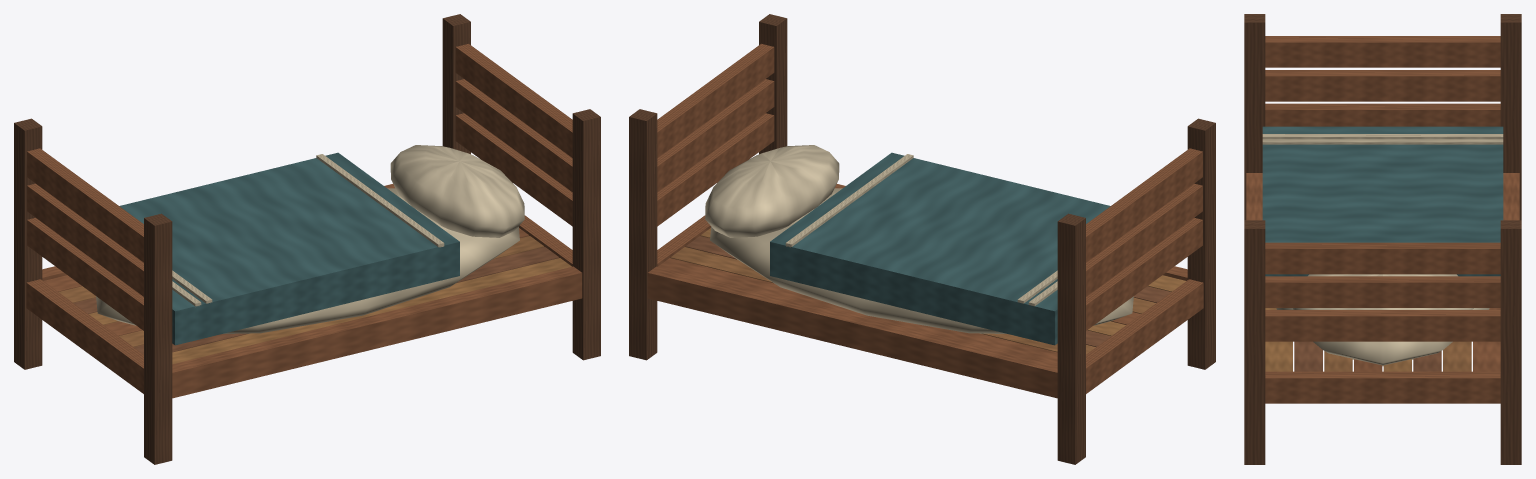
File: bed.glb
The picture shows the model from 3 angles, left to right: view 1: azimuth 30°, elevation 25°; view 2: azimuth 150°, elevation 25°; view 3: azimuth 270°, elevation 25°; orthographic projection.
Parts seen in each view (by area): view 1: bed; view 2: bed; view 3: bed.
Part boxes in pixels (x1=…): bed: x1=14, y1=14, x2=600, y2=464; bed: x1=629, y1=14, x2=1215, y2=464; bed: x1=1244, y1=14, x2=1521, y2=464.
Bounding box in the file's own units: 2.05 × 1.05 × 1.12.
1 material, 1 textured.
